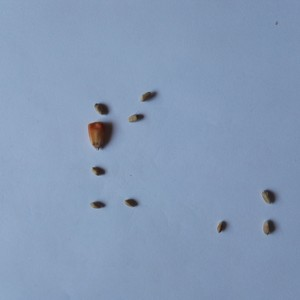maiz: (85, 119, 110, 151)
trigo: (91, 100, 112, 118), (213, 218, 232, 235), (261, 218, 277, 238), (259, 188, 276, 206), (89, 164, 108, 179), (138, 88, 156, 103), (127, 112, 146, 125), (88, 198, 106, 211), (123, 194, 138, 209)
